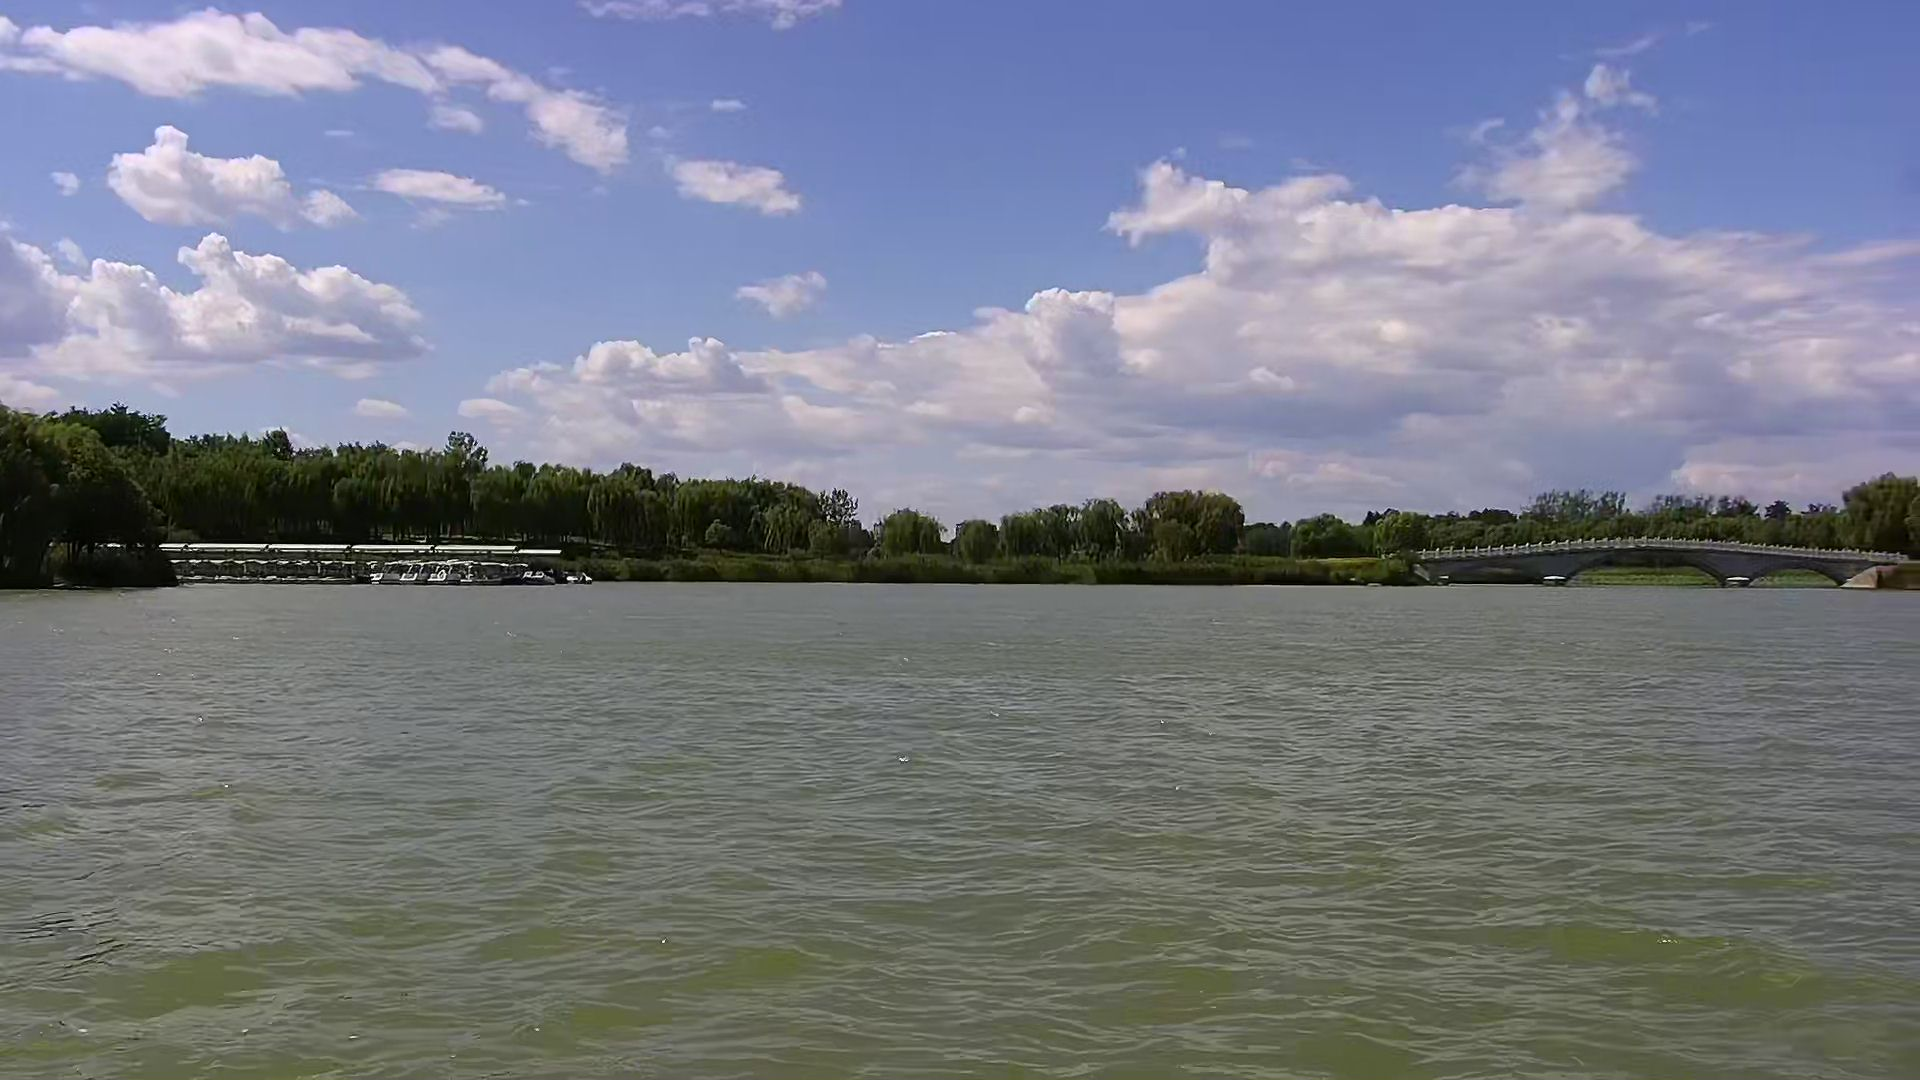bridge: (1408, 534, 1886, 593)
harbor: (156, 541, 588, 585)
